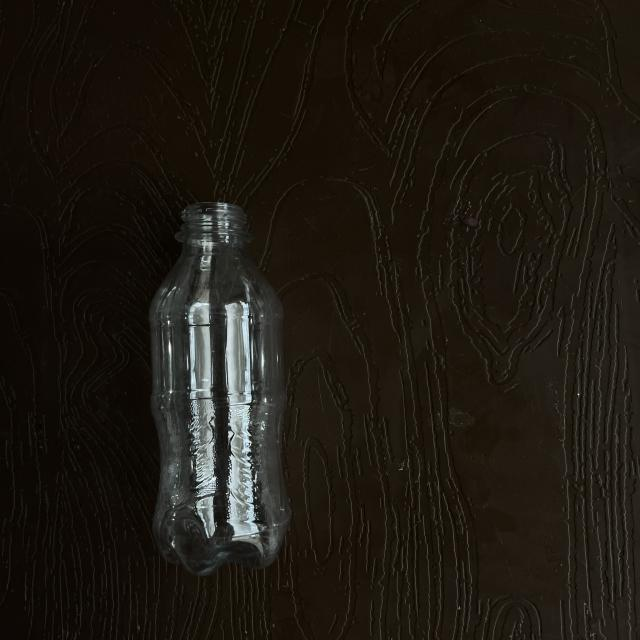PET_ClearBottle: (93, 200, 323, 582)
